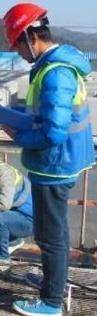boots: (8, 271, 69, 296), (11, 295, 63, 316)
gloves: (0, 202, 12, 231)
hard-hat: (2, 1, 48, 50)
vest: (0, 153, 31, 215)
